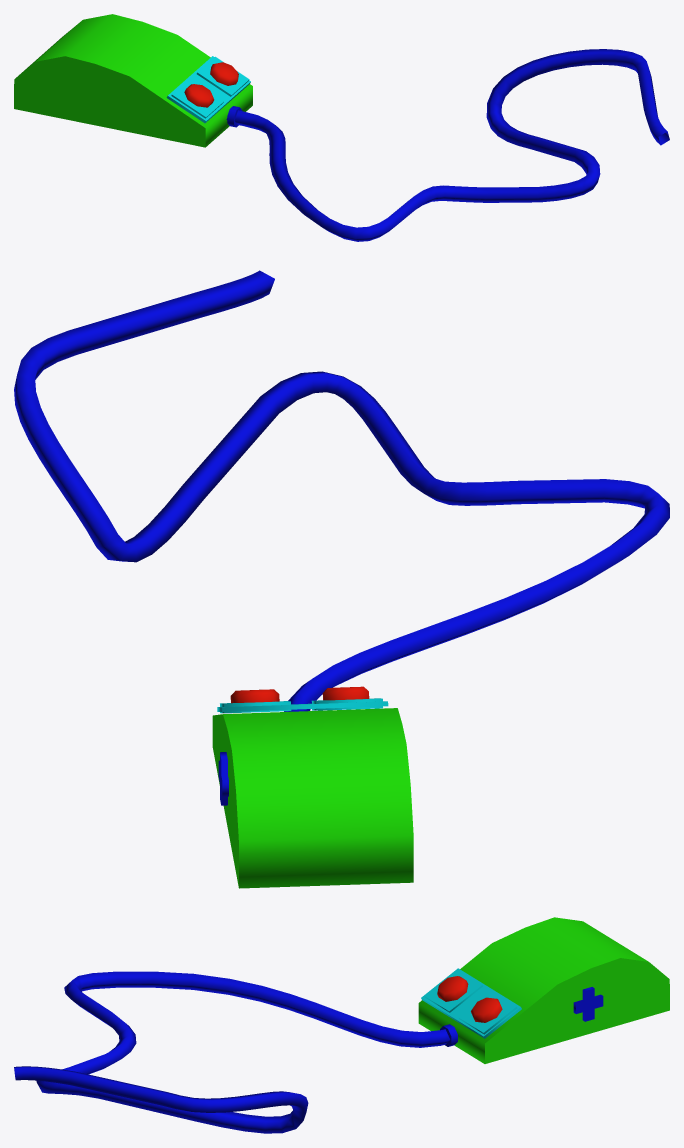
The picture shows the model from 3 angles, top to bottom: view 1: azimuth 30°, elevation 25°; view 2: azimuth 150°, elevation 25°; view 3: azimuth 270°, elevation 25°; orthographic projection. The views are drawn at different scales.
Visible parts, largest first — view 1: мышка_low; view 2: мышка_low; view 3: мышка_low.
Part boxes in pixels (box(x1,y1,x2,y2)): мышка_low: box(14, 14, 669, 241); мышка_low: box(14, 270, 669, 888); мышка_low: box(14, 917, 669, 1133).
Bounding box in the file's own units: 382 × 311 × 62.69.
